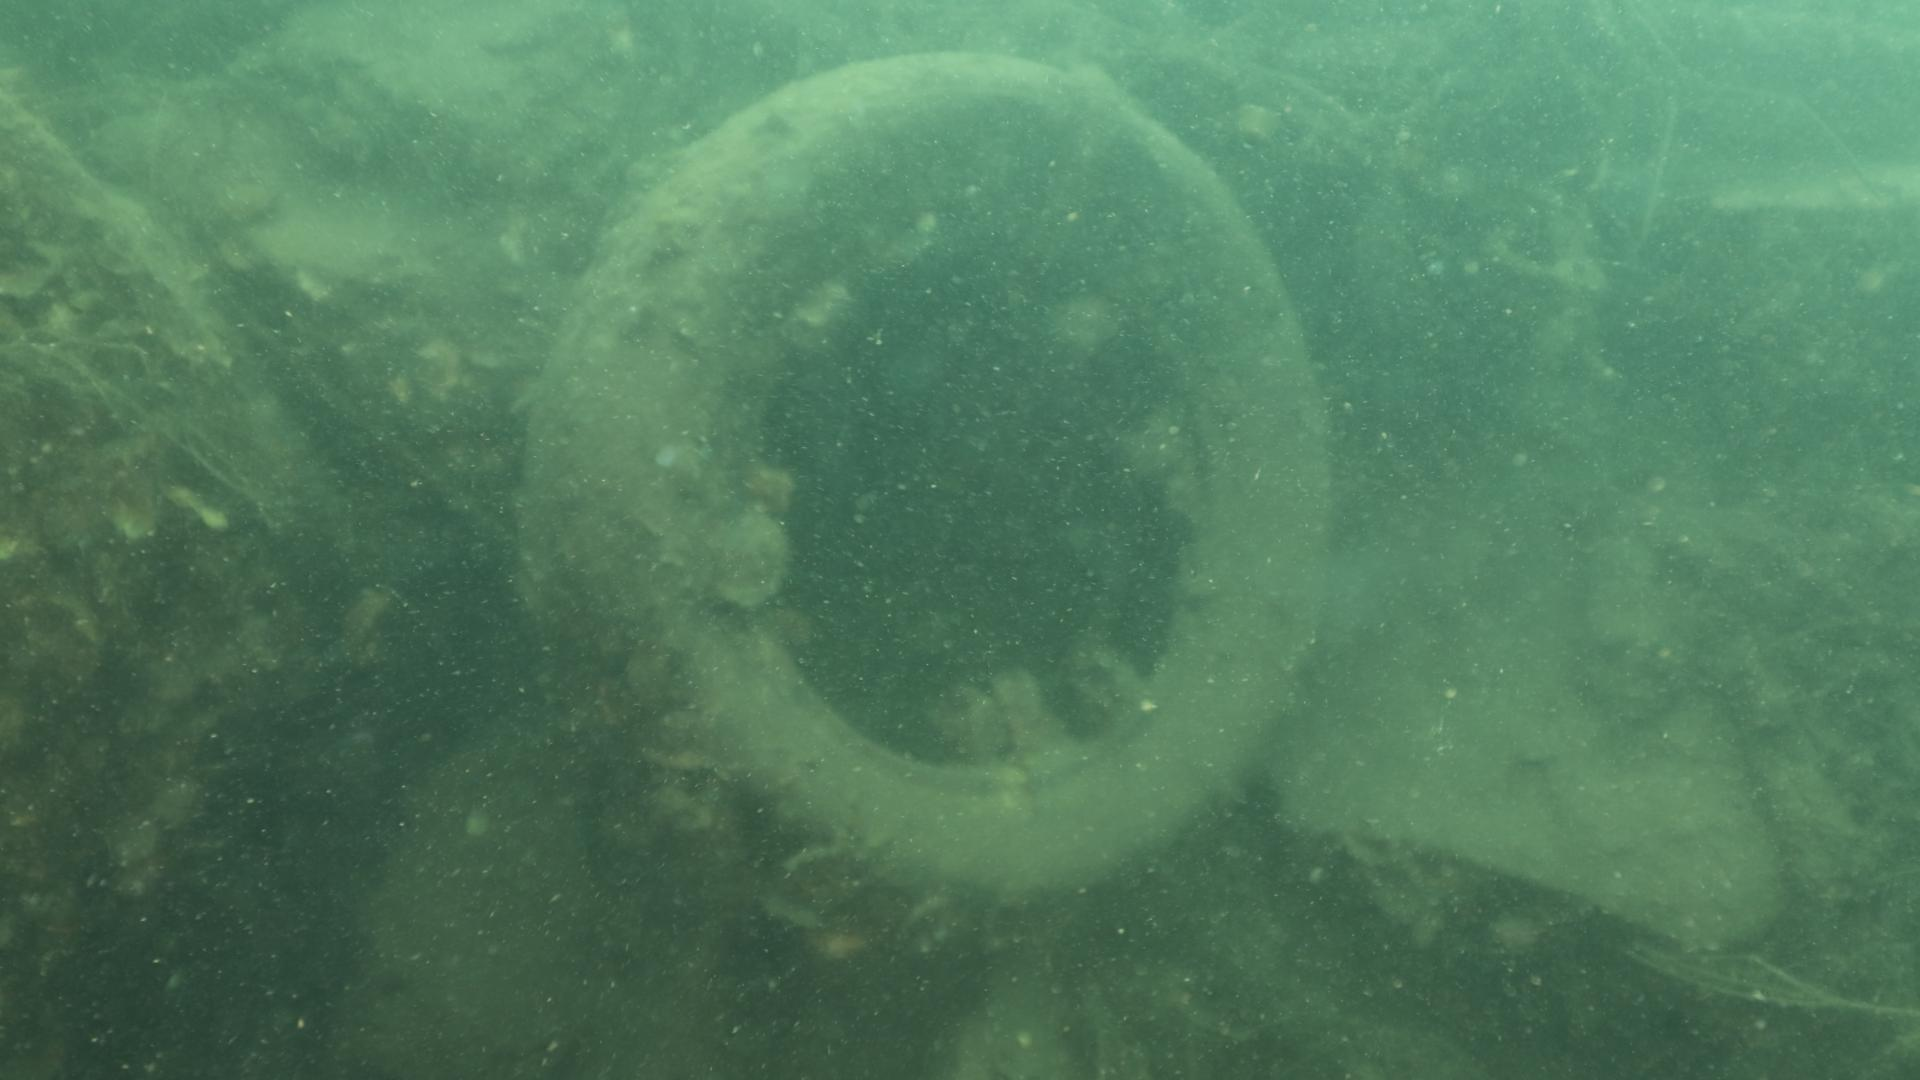tire: (513, 47, 1335, 972)
